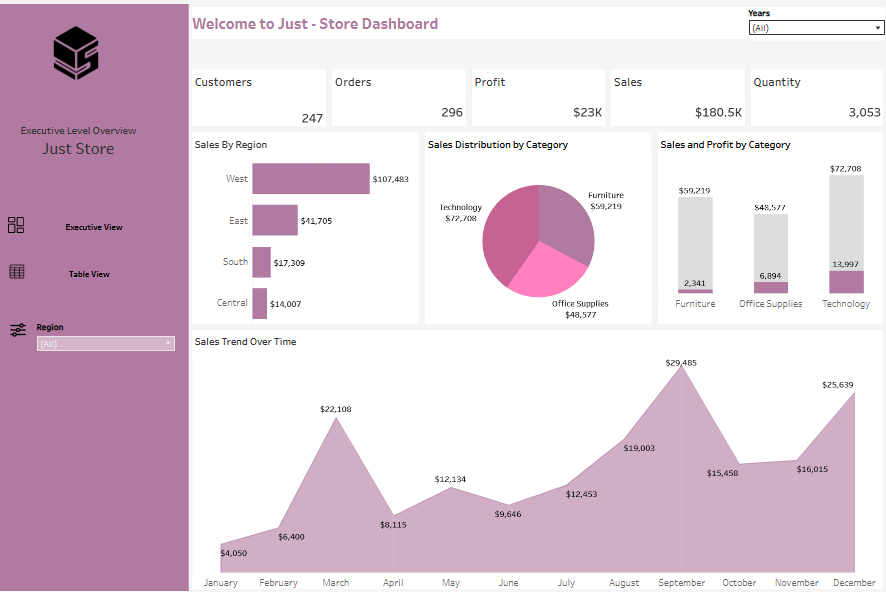

The dashboard page shown, as its layout file describes it:
{"tool":"tableau","page":{"name":"Executive View","canvas":[1200,800],"ordinal":0},"visuals":[{"type":"text","box":[261,8,931,51]},{"type":"filter","title":"Sales by Region","param":"[federated.0dv8ama1khhuof1btwyky10lgl2g].[yr:Order Date:ok]","box":[1007,11.9,184,44.7]},{"type":"image","param":"Image/letter-s.png","box":[74.8,36.7,71.8,84.4]},{"type":"blank","box":[261,59,931,32]},{"type":"worksheet","title":"Customer KPI","mark":"Automatic","box":[261,91,187,84]},{"type":"worksheet","title":"Order KPI","mark":"Automatic","box":[448,91,186,84]},{"type":"worksheet","title":"Profit KPI","mark":"Automatic","box":[634,91,186,84]},{"type":"worksheet","title":"Sales KPI","mark":"Automatic","box":[820,91,186,84]},{"type":"worksheet","title":"Quantity KPI","mark":"Automatic","box":[1006,91,186,84]},{"type":"text","box":[9,148.9,209.5,82.4]},{"type":"worksheet","title":"Sales by Region","mark":"Automatic","rows":["Region"],"cols":["Sales"],"box":[261,175,311,263]},{"type":"worksheet","title":"Sales Distribution","mark":"Pie","box":[572,175,310,263]},{"type":"worksheet","title":"Sales and Profit","mark":"Bar","rows":["Sales","Profit"],"cols":["Category"],"box":[882,175,310,263]},{"type":"dashboard-object","box":[52,286,165,37]},{"type":"image","param":"Image/dashboard.png","box":[20.2,291.8,21,25.8]},{"type":"dashboard-object","box":[44,347,169,41]},{"type":"image","param":"Image/table (1).png","box":[21,354,21,26]},{"type":"filter","title":"Sales by Region","param":"[federated.0dv8ama1khhuof1btwyky10lgl2g].[none:Region:nk]","box":[58,431,186,50]},{"type":"image","param":"Image/filter.png","box":[23,432,21,26]},{"type":"worksheet","title":"Sales Trend","mark":"Area","rows":["Sales"],"cols":["Order Date"],"box":[261,438,931,354]}]}

Visuals, with their boxes in screenshot pixels (x1, y1, x2, y2), scaled from the page's 1200x800 canvas onto the 886x592 screenshot:
text: (x1=193, y1=6, x2=880, y2=44)
"Sales by Region" filter: (x1=744, y1=9, x2=879, y2=42)
image: (x1=55, y1=27, x2=108, y2=90)
blank: (x1=193, y1=44, x2=880, y2=67)
"Customer KPI" worksheet: (x1=193, y1=67, x2=331, y2=130)
"Order KPI" worksheet: (x1=331, y1=67, x2=468, y2=130)
"Profit KPI" worksheet: (x1=468, y1=67, x2=605, y2=130)
"Sales KPI" worksheet: (x1=605, y1=67, x2=743, y2=130)
"Quantity KPI" worksheet: (x1=743, y1=67, x2=880, y2=130)
text: (x1=7, y1=110, x2=161, y2=171)
"Sales by Region" worksheet: (x1=193, y1=130, x2=422, y2=324)
"Sales Distribution" worksheet (Pie marks): (x1=422, y1=130, x2=651, y2=324)
"Sales and Profit" worksheet (Bar marks): (x1=651, y1=130, x2=880, y2=324)
dashboard-object: (x1=38, y1=212, x2=160, y2=239)
image: (x1=15, y1=216, x2=30, y2=235)
dashboard-object: (x1=32, y1=257, x2=157, y2=287)
image: (x1=16, y1=262, x2=31, y2=281)
"Sales by Region" filter: (x1=43, y1=319, x2=180, y2=356)
image: (x1=17, y1=320, x2=32, y2=339)
"Sales Trend" worksheet (Area marks): (x1=193, y1=324, x2=880, y2=586)
